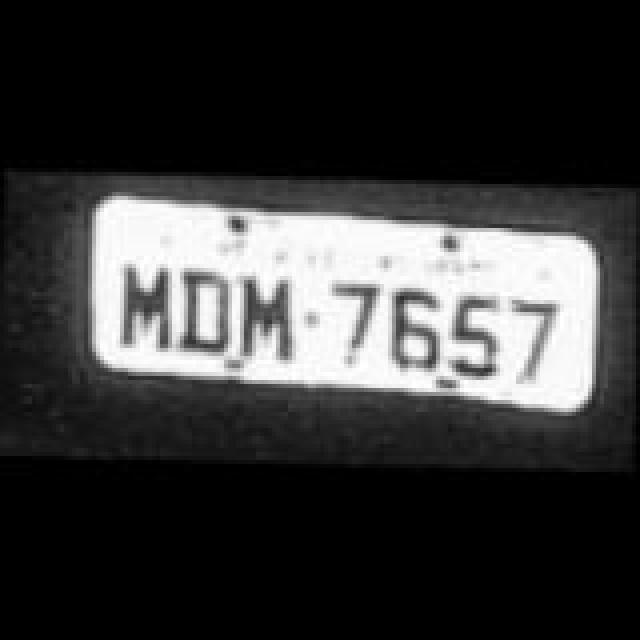5: (446, 290, 502, 374)
6: (390, 284, 446, 368)
7: (332, 278, 384, 362), (508, 294, 560, 378)
D: (174, 264, 230, 348)
M: (236, 270, 296, 354), (124, 258, 176, 346)
